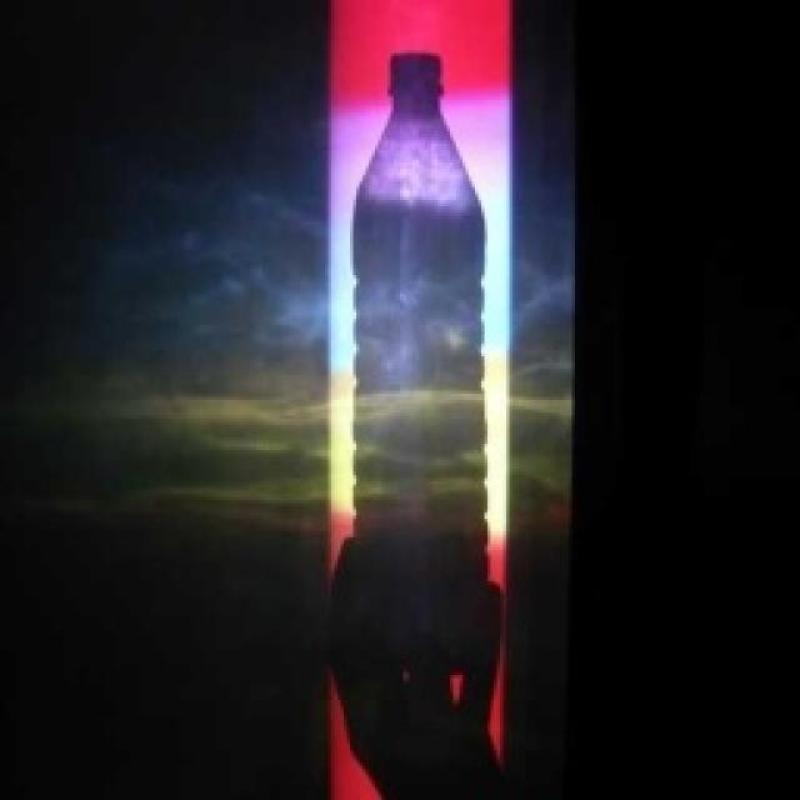botella: (354, 48, 494, 671)
